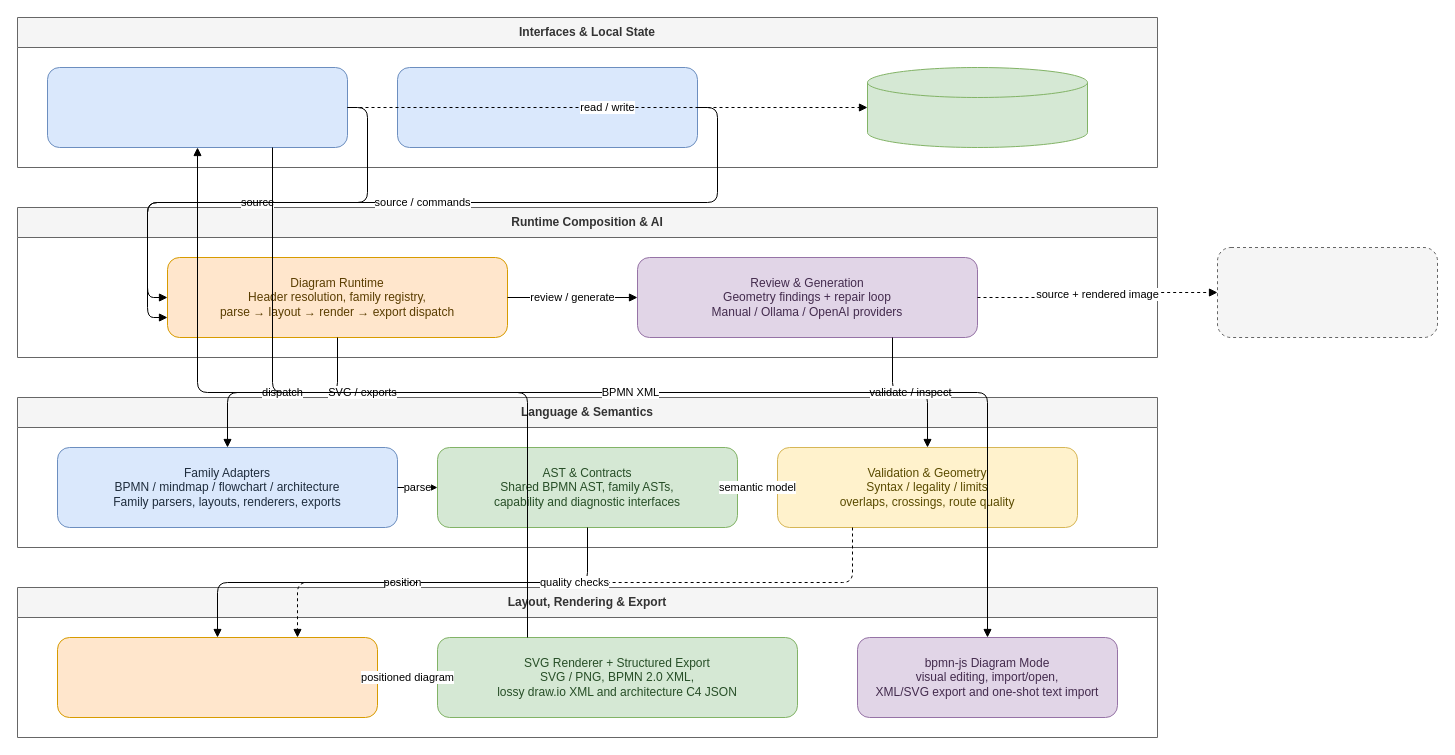
The diagram is 1455 pixels wide and 755 high, and some of its shapes have lost their labels. Here are the shapes that lost their labels. From the top down, the centre of each, then its label:
the point at 197,107: Web Editor Text mode + BPMN Diagram mode IndexedDB project persistence
the point at 547,107: CLI validate / render / export review / generate / import / freeze
the point at 977,107: Local Files .bpm / .bpmn / SVG / PNG / draw.io XML
the point at 1327,292: External AI endpoints OpenAI-compatible API / Ollama user-selected data boundary
the point at 217,677: Layout Facade & Engines ELK flat / swimlane / manual shared orthogonal routing
